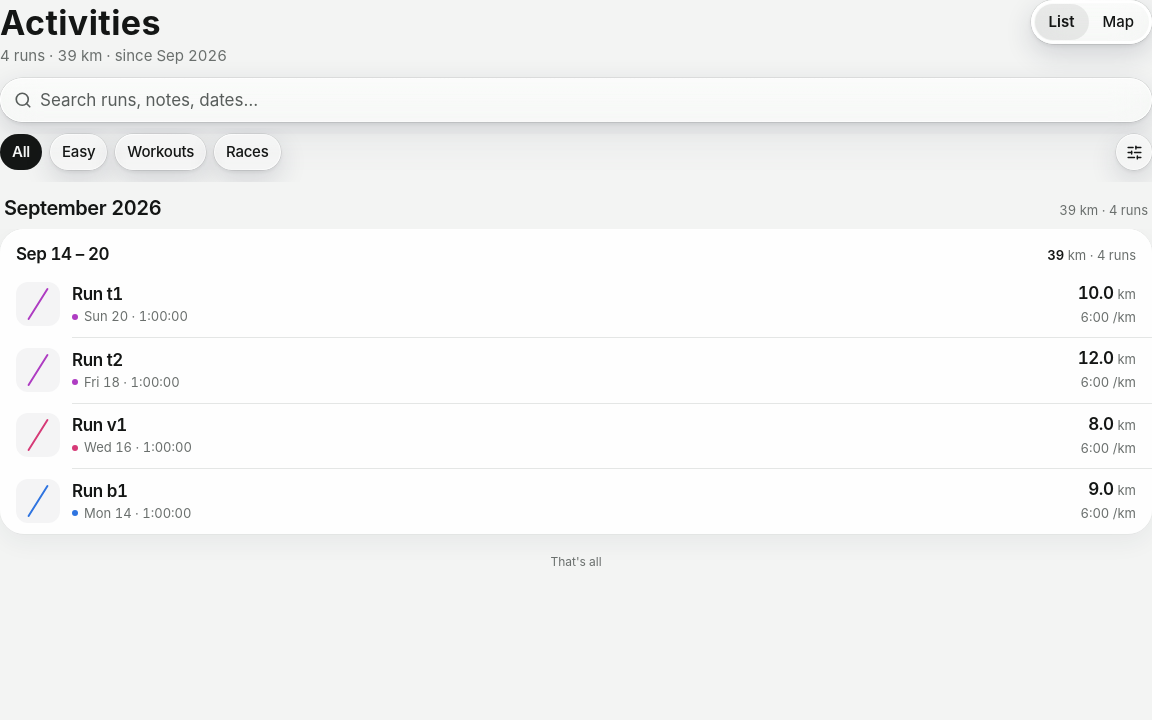
Test: the filter sheet › sorts by the longest run as a flat list
Click the button named "Filter & sort".
click(1134, 152)  # box [1116,134,1151,170]
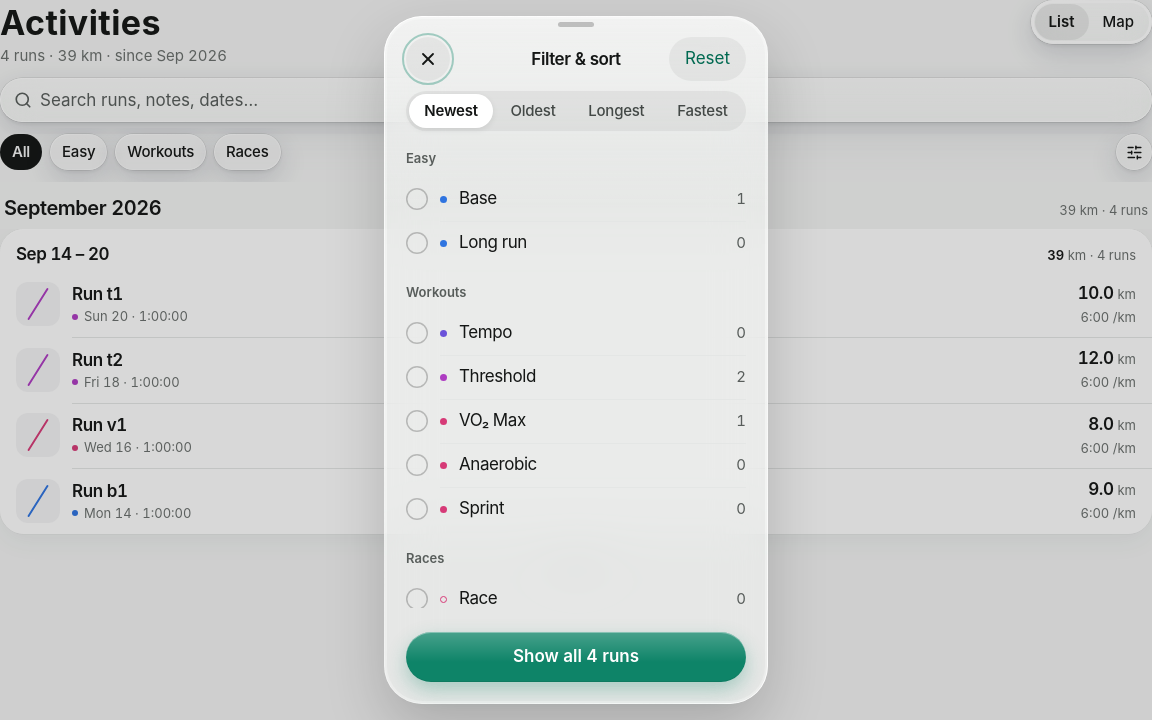
Click the tab "Longest".
click(616, 111)  # box [573,94,660,128]
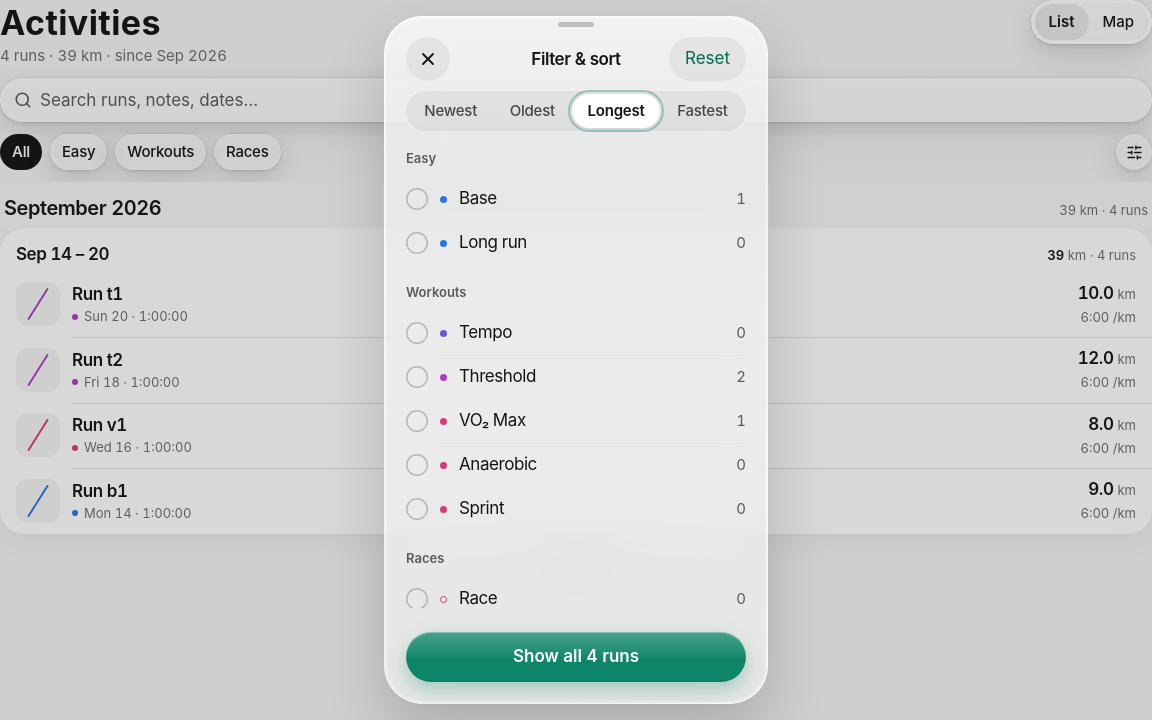
Click the button "Show all 4 runs".
click(576, 657)  # box [406,632,746,682]
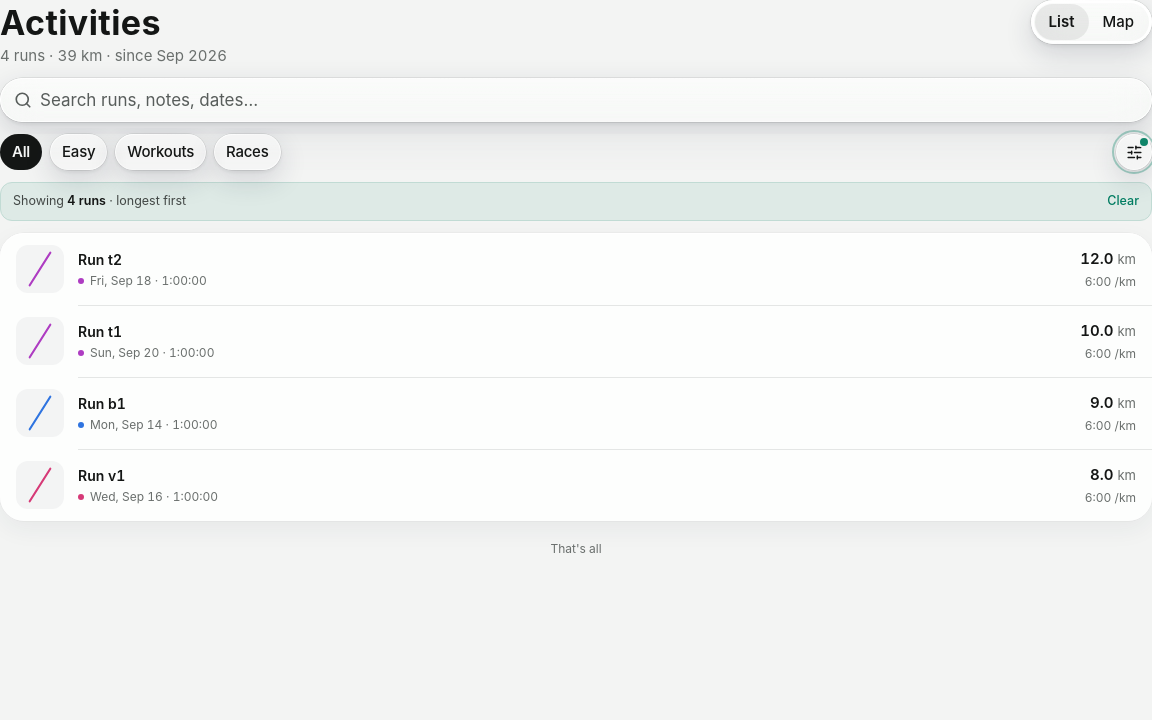
Result: no elements with test id "week" are shown
